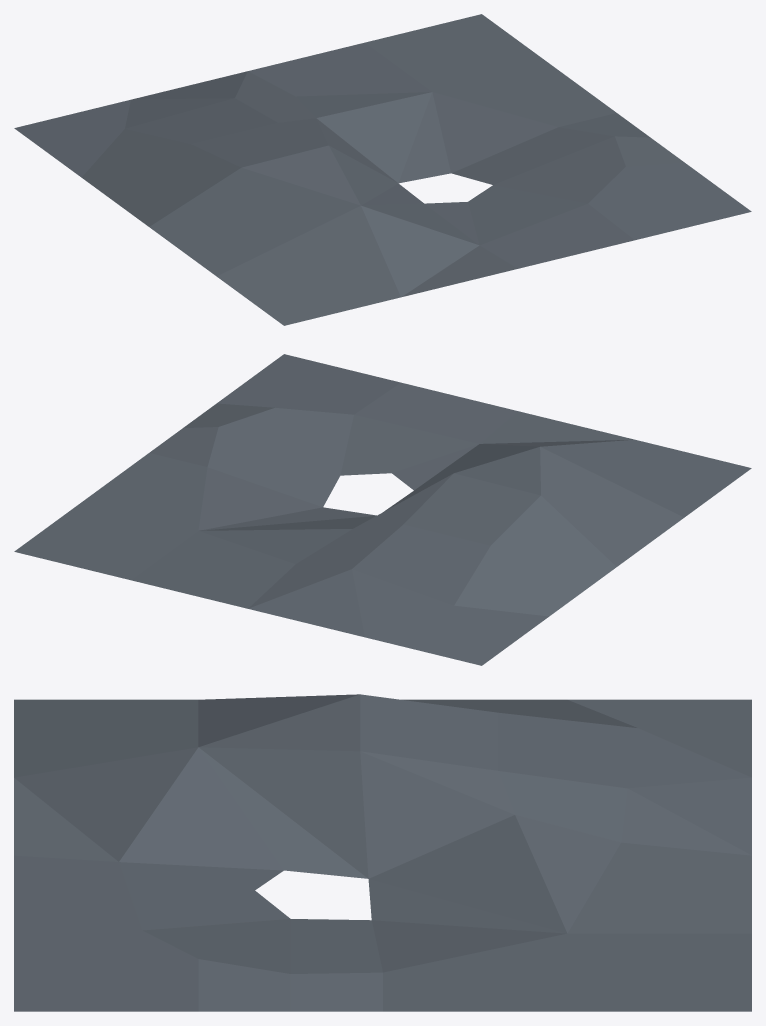
File: FloorHole07.fbx
3 renders of one model, top to bottom at view 1: azimuth 30°, elevation 25°; view 2: azimuth 150°, elevation 25°; view 3: azimuth 270°, elevation 25°, orthographic. The views are drawn at different scales.
Visible parts, largest first — view 1: FloorHole07; view 2: FloorHole07; view 3: FloorHole07.
Boxes of the visible parts, bbox=[...] form: FloorHole07: bbox=[14, 14, 751, 325]; FloorHole07: bbox=[14, 354, 751, 665]; FloorHole07: bbox=[14, 694, 751, 1011].
Size of the model in its own units: 2032 by 257 by 2032.
